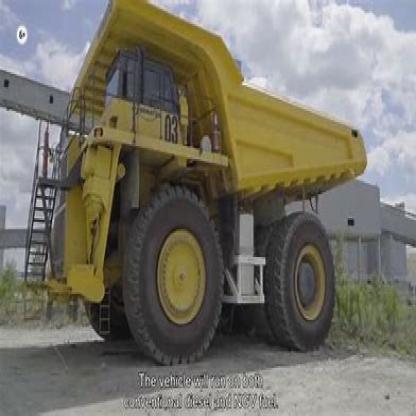dump_truck: (32, 0, 377, 372)
